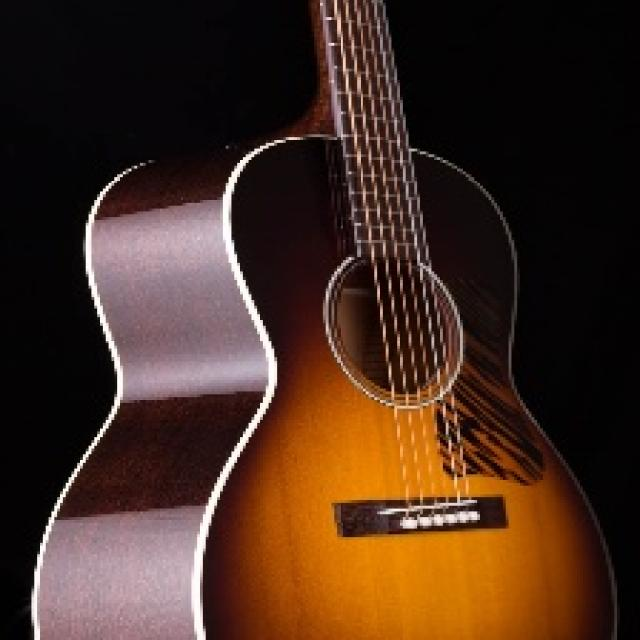guitar: (34, 1, 620, 640)
